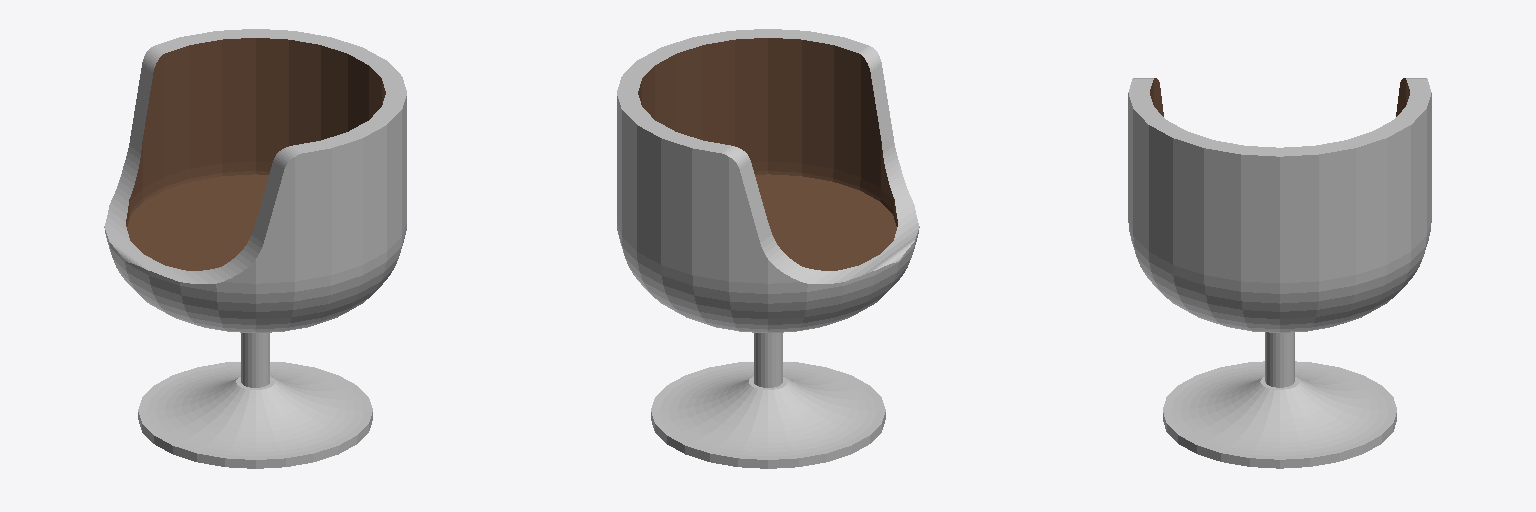
The model's file is chair.obj.
3 renders of one model, left to right at view 1: azimuth 30°, elevation 25°; view 2: azimuth 150°, elevation 25°; view 3: azimuth 270°, elevation 25°, orthographic.
Parts seen in each view (by area): view 1: Model; view 2: Model; view 3: Model.
Part boxes in pixels (x1,y1,x2,y2): Model: (104, 29, 406, 468); Model: (617, 29, 919, 468); Model: (1128, 78, 1431, 468).
Size of the model in its own units: 0.6183 by 0.7359 by 0.62.